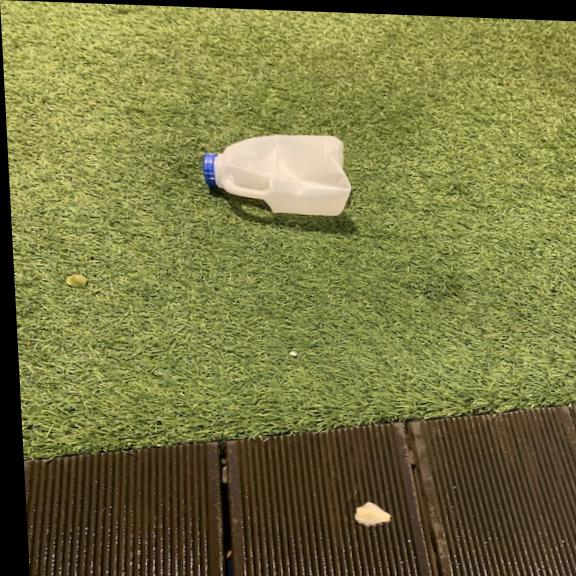Plastik: (194, 126, 359, 224)
